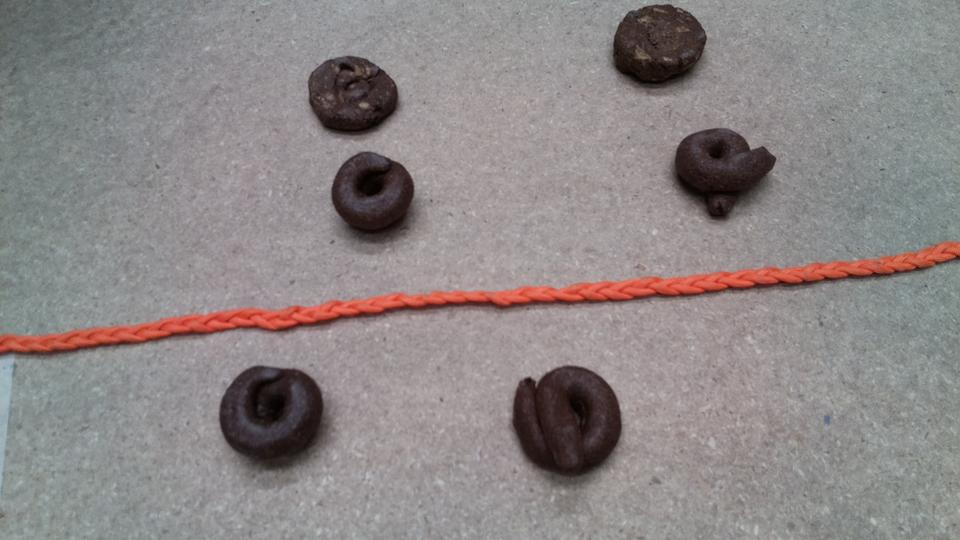poop: (509, 353, 625, 481), (664, 121, 785, 228), (216, 359, 331, 465), (608, 4, 715, 89), (327, 150, 420, 239), (305, 50, 404, 130)
rope: (607, 254, 909, 303), (373, 280, 628, 321), (154, 300, 411, 340), (1, 313, 177, 360), (834, 241, 960, 284)
